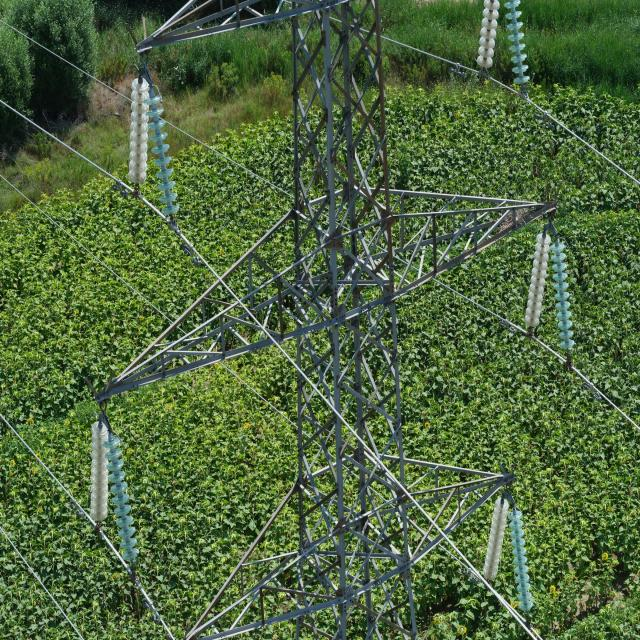direk: (286, 7, 419, 640)
